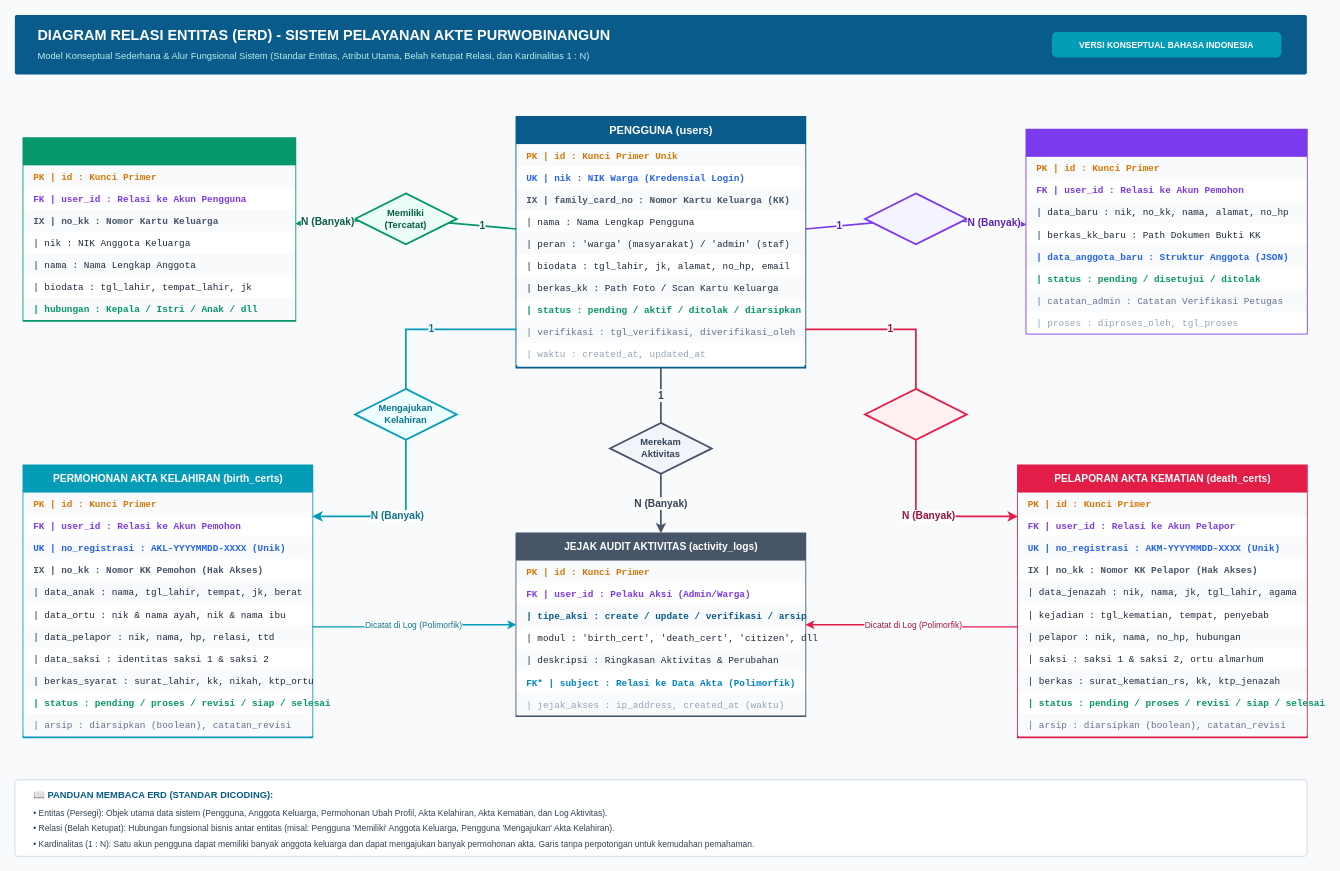
Image size: 1340x871. Some labels were removed from this diagram. The box of each missing label's shape, as (x1, y1, x2, y2) in pixels:
ANGGOTA KELUARGA (family_members): (22, 137, 296, 321)
Melaporkan Kematian: (864, 388, 967, 440)
Mengajukan Perubahan: (864, 192, 967, 245)
PERMOHONAN UBAH PROFIL (profile_requests): (1025, 128, 1307, 334)
